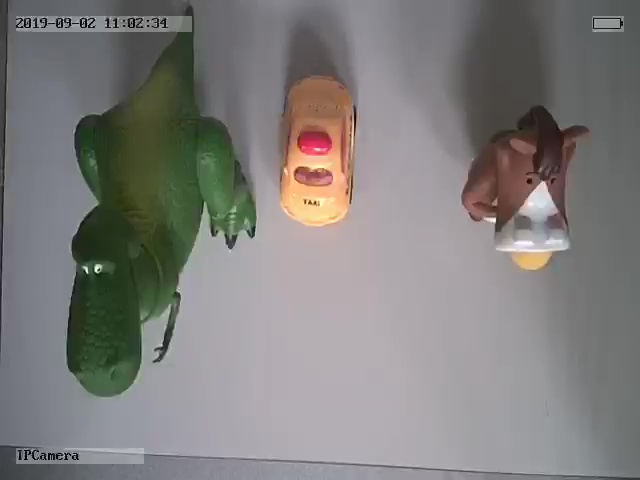car: (277, 69, 360, 233)
horse: (461, 102, 591, 275)
rex: (64, 32, 255, 399)
